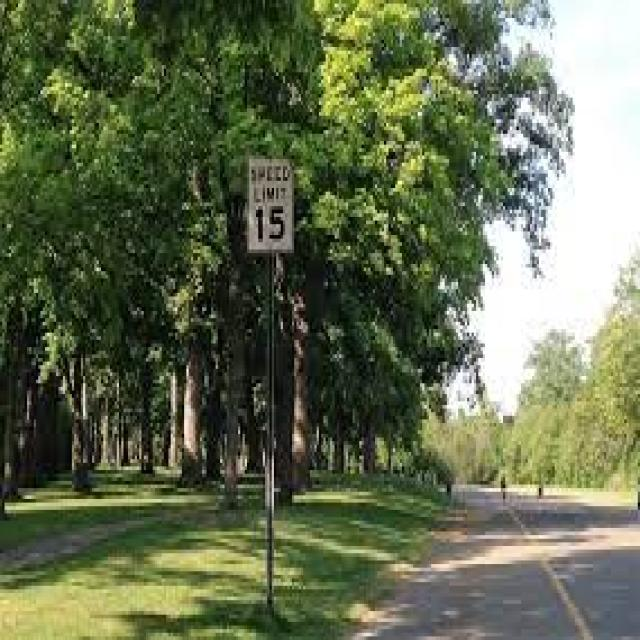speedLimit15: (252, 163, 290, 242)
